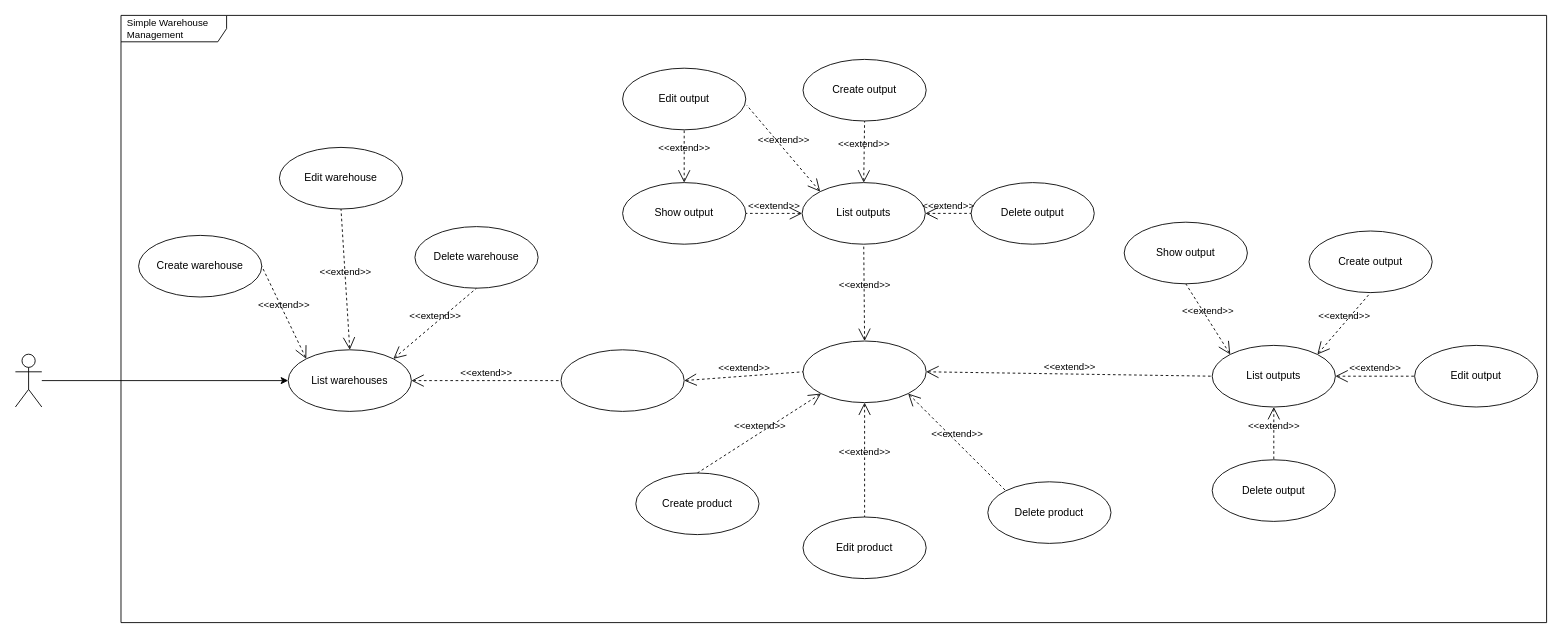
This 1562x638 diagram has some shape labels left out. Here are the shapes that lost their labels. From the top down, the centre of each, then its label:
(28,380): User
(622,380): Select warehouse
(864,371): List warehouses products
